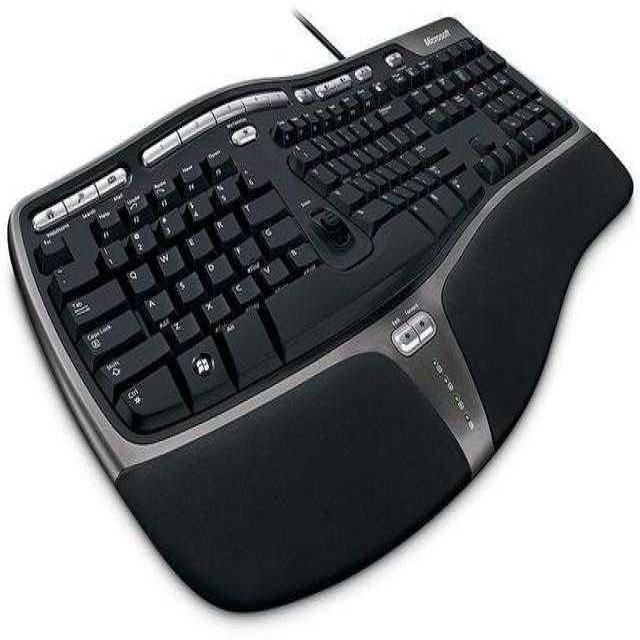keyboard: (6, 13, 633, 616)
